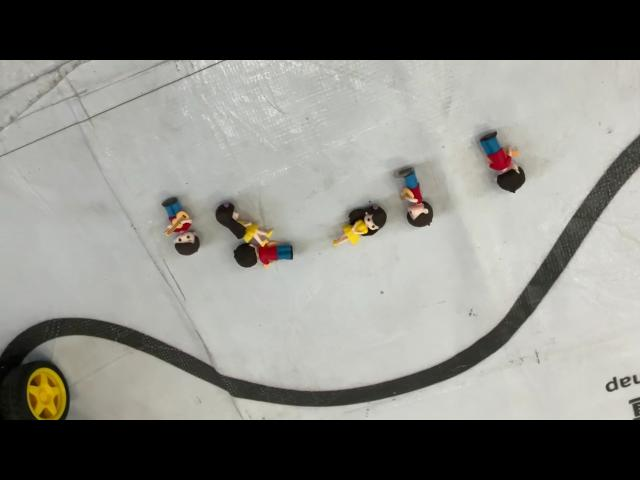man: (479, 130, 529, 197), (392, 162, 436, 228), (160, 194, 204, 258), (232, 241, 296, 269)
woman: (330, 202, 388, 254), (213, 200, 274, 248)
